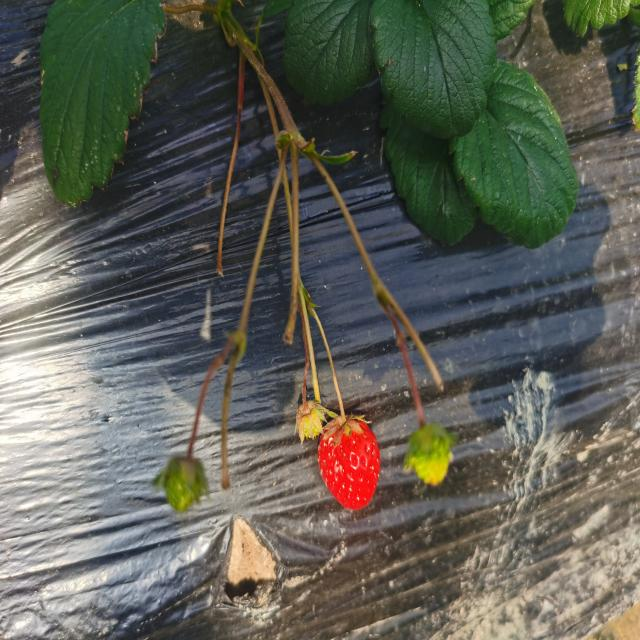stem: (331, 366, 347, 428)
strawberry: (318, 414, 381, 509)
